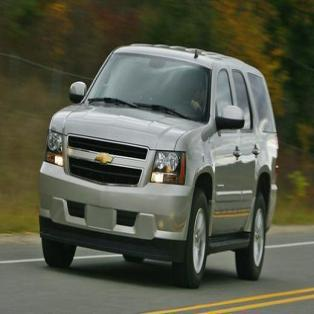Auto: (37, 42, 280, 292)
